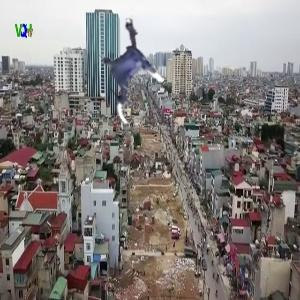drone: (85, 29, 181, 125)
